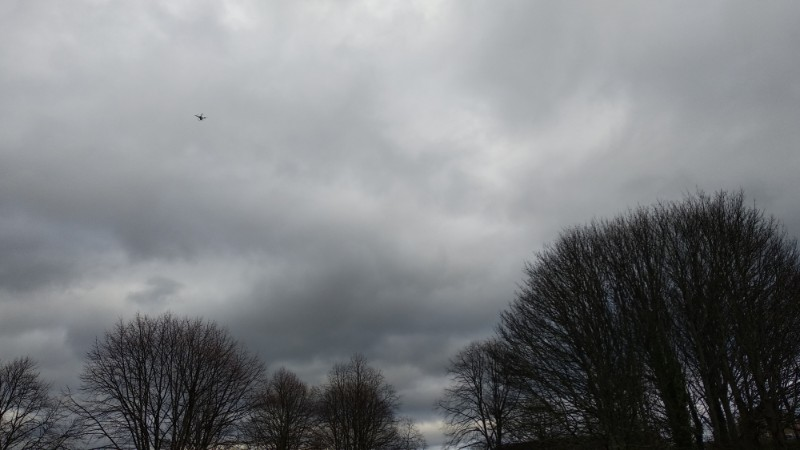drone: (194, 113, 207, 121)
